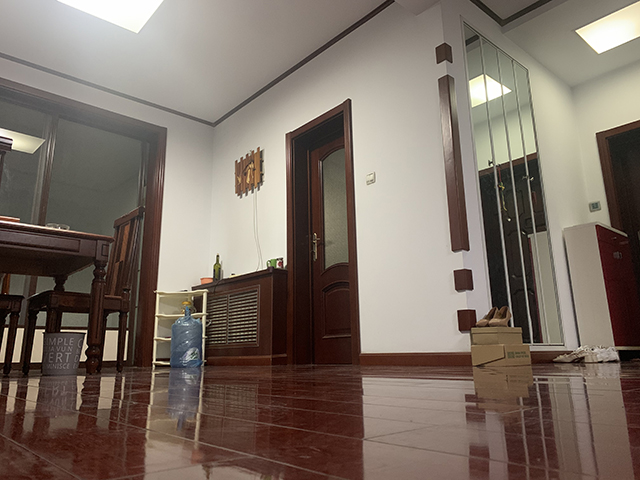cabinet: (558, 218, 640, 366), (190, 265, 289, 367)
stool: (17, 202, 148, 376)
table: (1, 218, 117, 376)
trash can: (39, 331, 87, 377)
